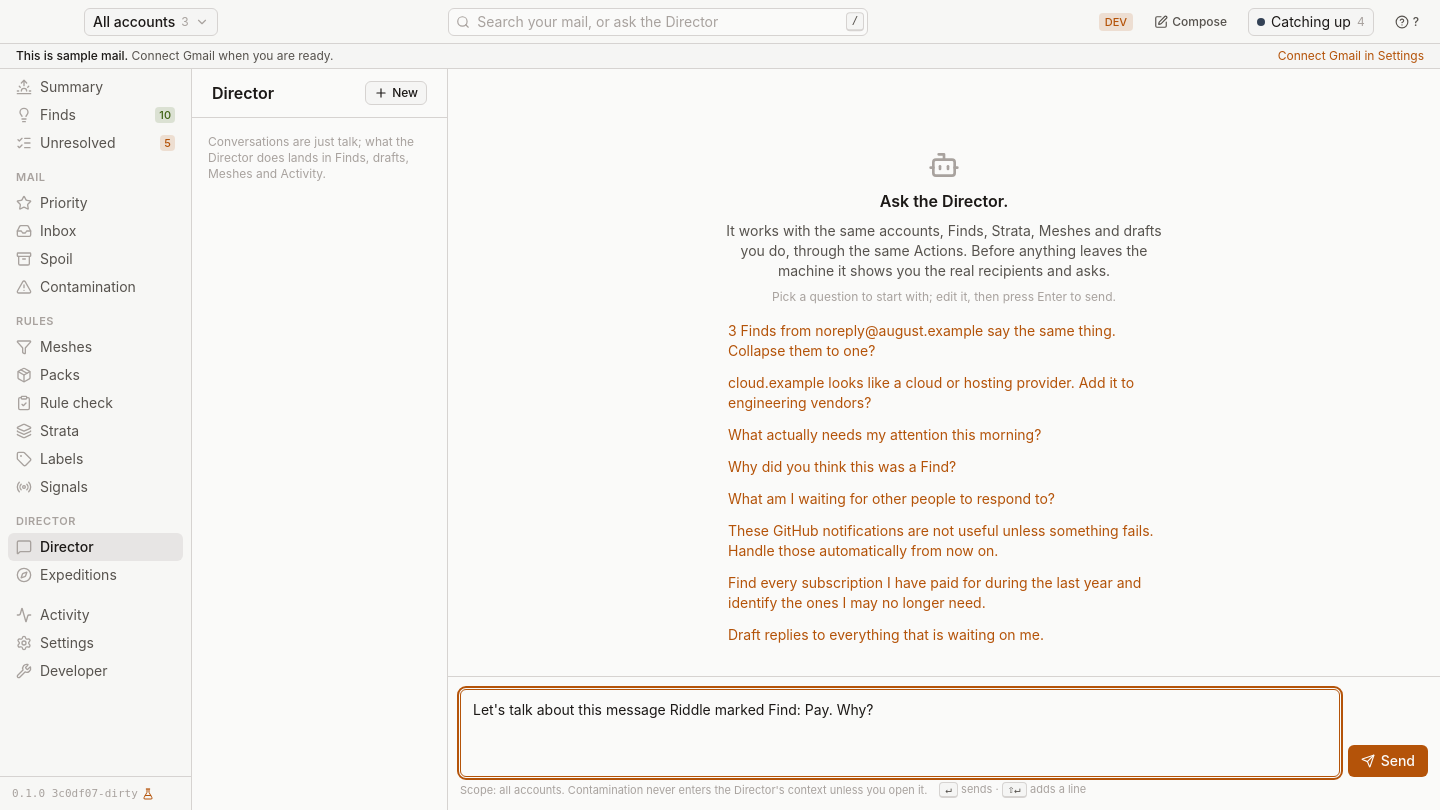
Test: the Director page › titles a conversation by what the prefilled draft is about, and copies a link to it
This screenshot has width=1440, height=810.
Press Enter in the text box named "Message to the Director", box [460, 689, 1340, 777]
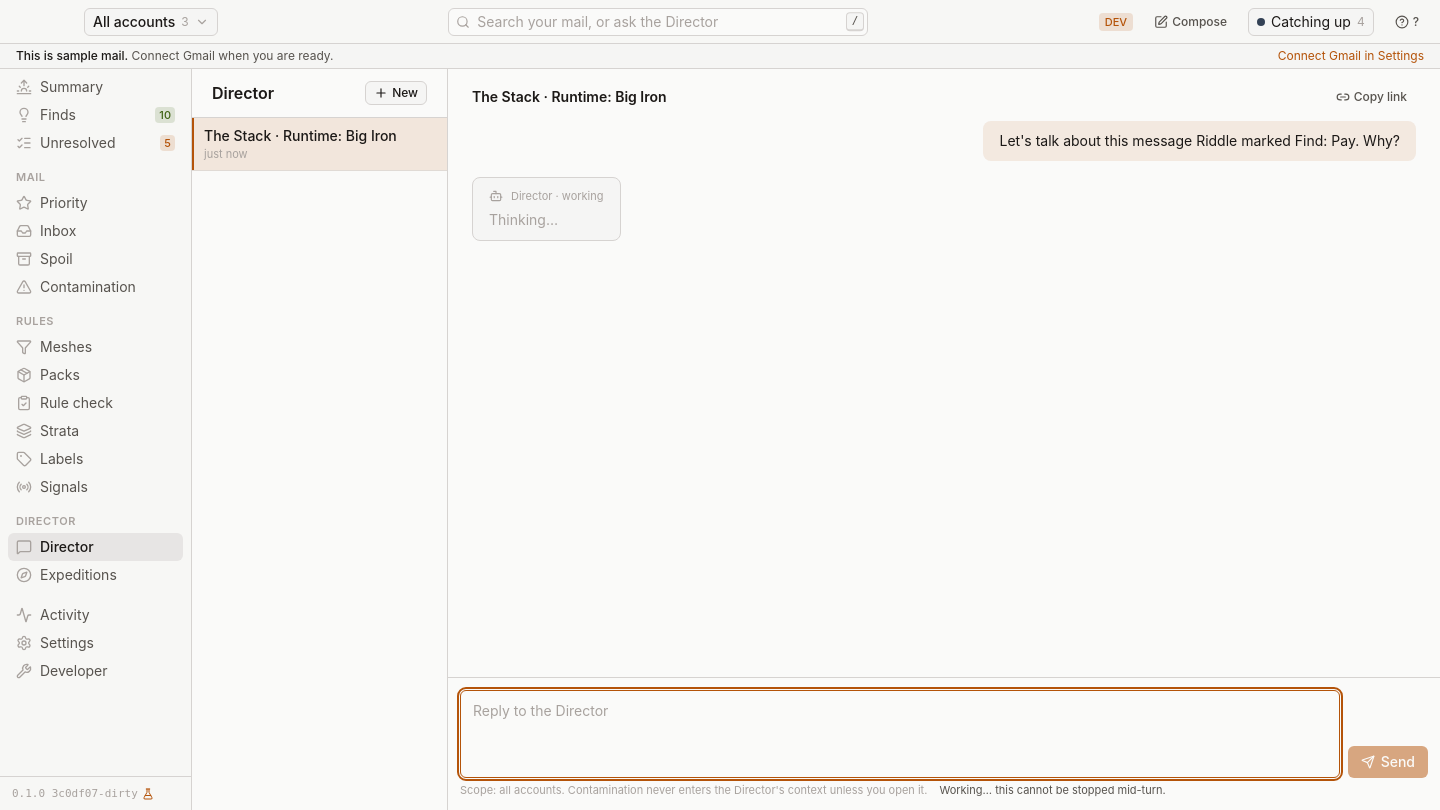
Now the heading "The Stack · Runtime: Big Iron" is shown, box [472, 88, 667, 105]
Click the button "Copy link" at (1371, 97), box [1327, 85, 1416, 109]
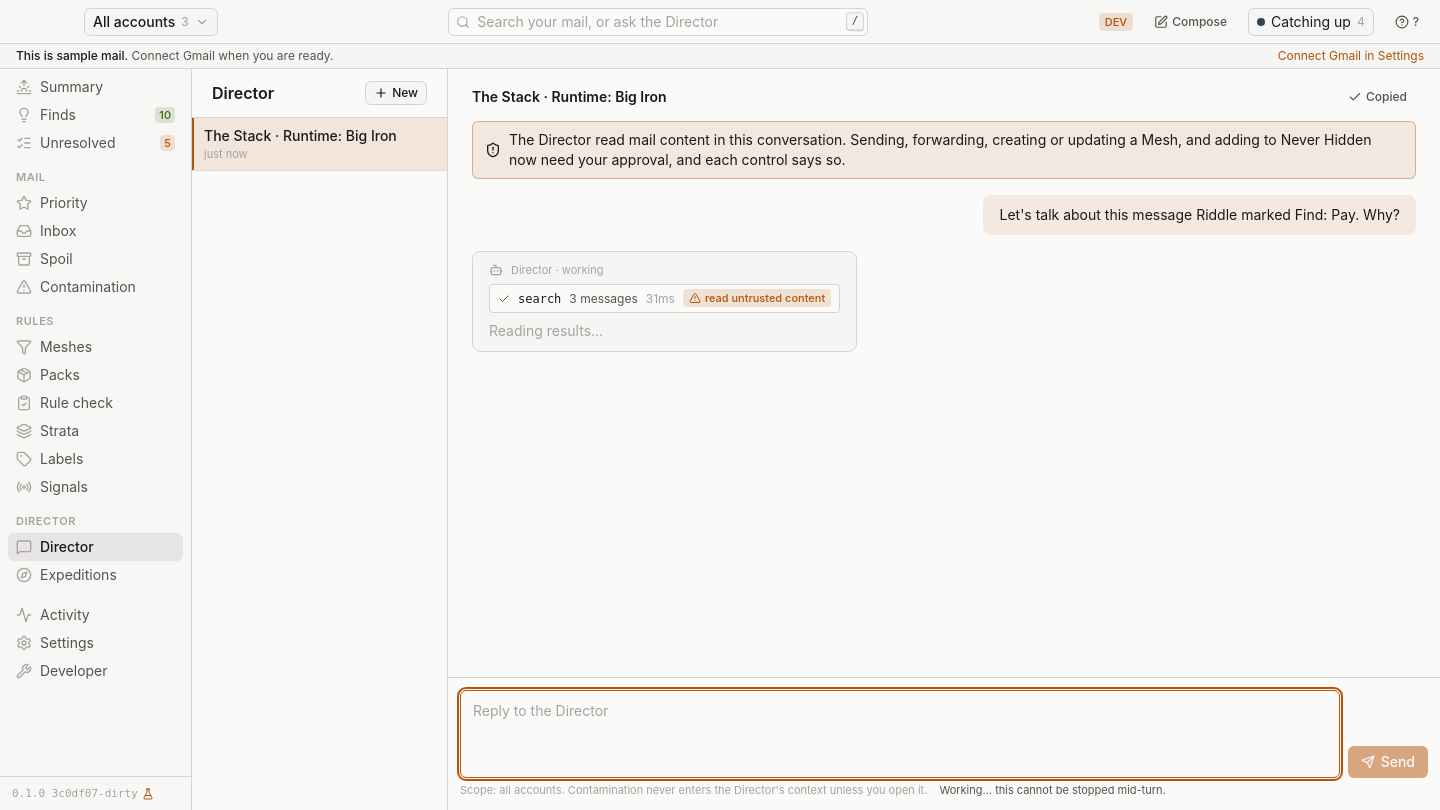
Now the button "Copied" is shown, box [1339, 85, 1416, 109]
